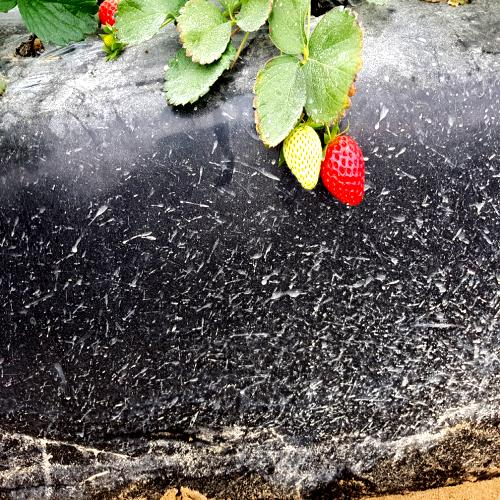ripe: (320, 130, 370, 214)
unripe: (280, 115, 328, 204)
